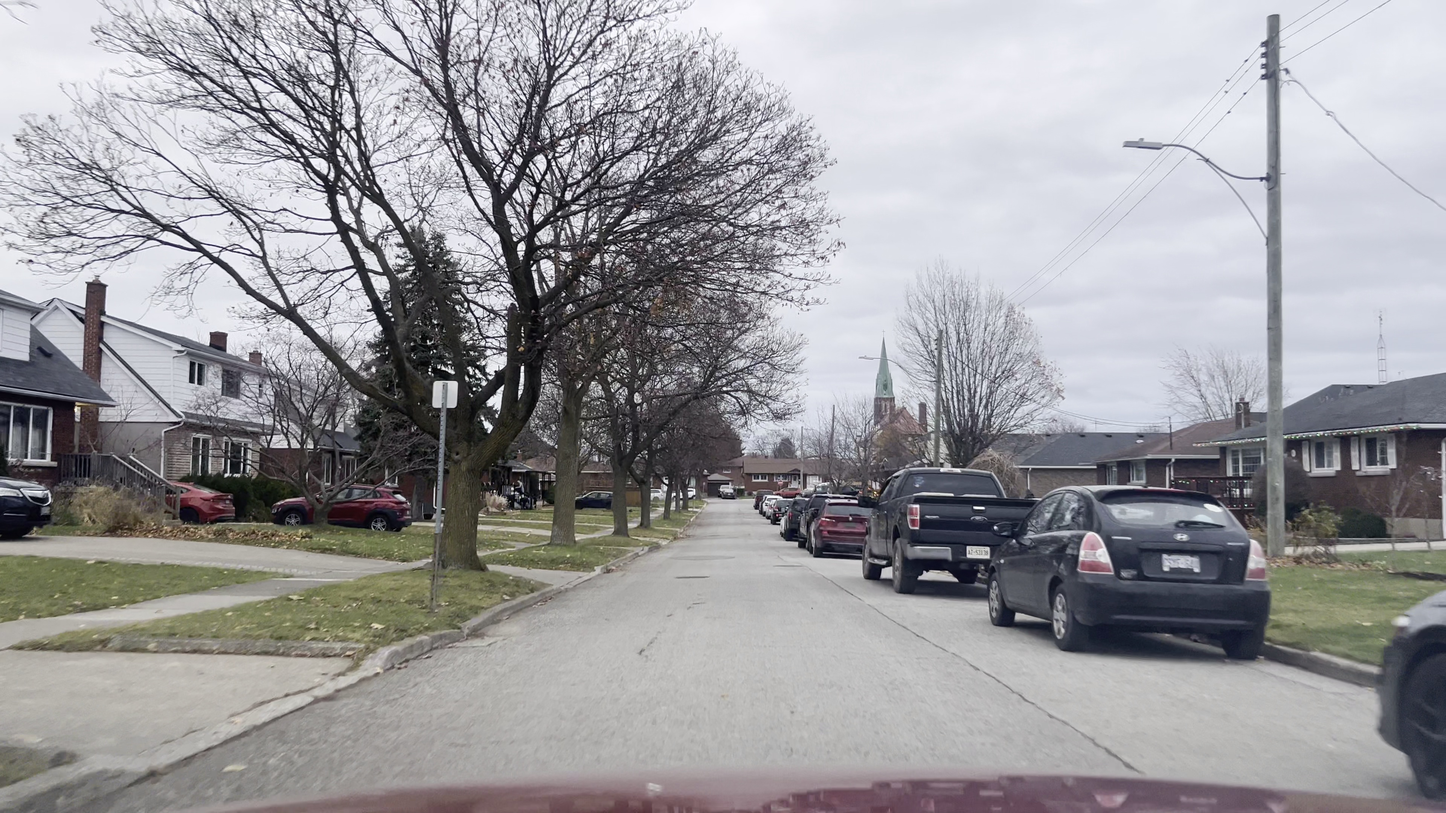cracks: (1033, 699, 1136, 772), (938, 637, 1013, 691)
